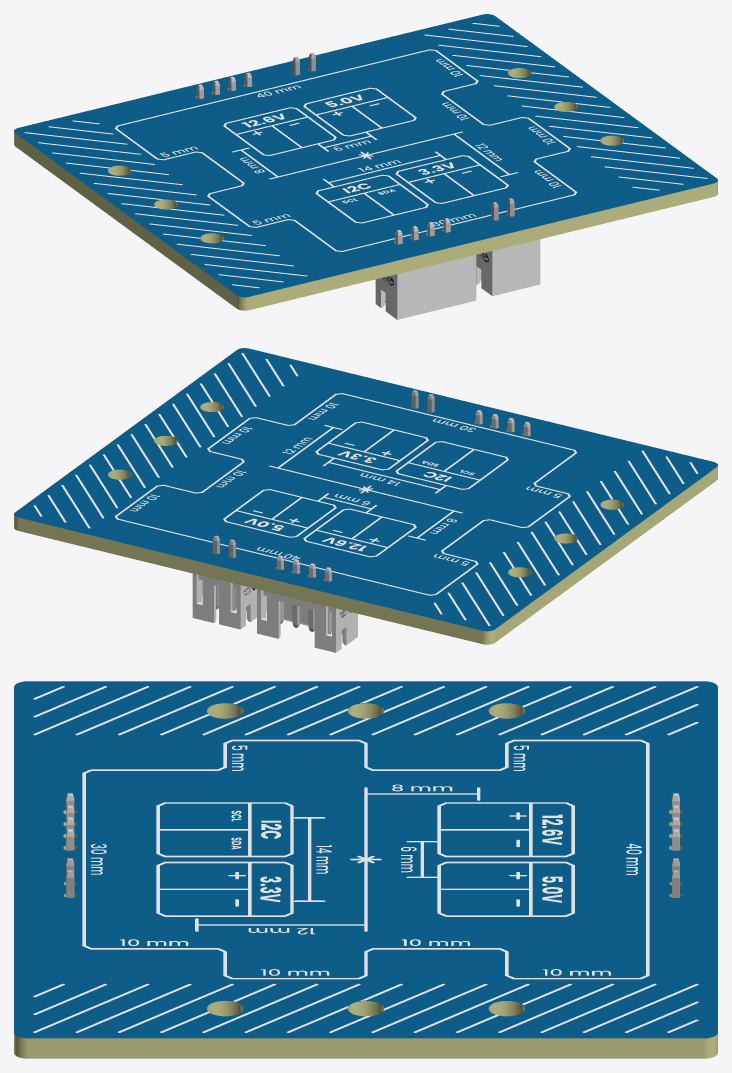
File: PlugBoard.glb
3 renders of one model, top to bottom at view 1: azimuth 30°, elevation 25°; view 2: azimuth 150°, elevation 25°; view 3: azimuth 270°, elevation 25°, orthographic. The views are drawn at different scales.
Visible parts, largest first — view 1: Board~6Stn, CONN-TH_B4B-PH-K-S~PH2.0-LI-4P~6Stn015, CONN-TH_B2B-PH-K-S~CONN-TH_PH2.00-LI-2P~6Stn015, TopSilkscreen~6Stn022, TopSilkscreen~6Stn047, TopSilkscreen~6Stn033, TopSilkscreen~6Stn032; view 2: Board~6Stn, CONN-TH_B4B-PH-K-S~PH2.0-LI-4P~6Stn, CONN-TH_B2B-PH-K-S~CONN-TH_PH2.00-LI-2P~6Stn, TopSilkscreen~6Stn022, TopSilkscreen~6Stn047, TopSilkscreen~6Stn033, TopSilkscreen~6Stn032; view 3: Board~6Stn, TopSilkscreen~6Stn022, TopSilkscreen~6Stn047, TopSilkscreen~6Stn033, TopSilkscreen~6Stn032.
Part boxes in pixels (x1,y1,x2,y2): Board~6Stn: (14, 14, 717, 310); CONN-TH_B4B-PH-K-S~PH2.0-LI-4P~6Stn015: (375, 218, 476, 319); CONN-TH_B2B-PH-K-S~CONN-TH_PH2.00-LI-2P~6Stn015: (476, 198, 540, 295); TopSilkscreen~6Stn022: (114, 49, 576, 251); TopSilkscreen~6Stn047: (315, 151, 508, 223); TopSilkscreen~6Stn033: (223, 87, 416, 155); TopSilkscreen~6Stn032: (232, 131, 518, 179); Board~6Stn: (14, 348, 717, 644); CONN-TH_B4B-PH-K-S~PH2.0-LI-4P~6Stn: (257, 555, 357, 652); CONN-TH_B2B-PH-K-S~CONN-TH_PH2.00-LI-2P~6Stn: (192, 535, 256, 629); TopSilkscreen~6Stn022: (115, 393, 576, 595); TopSilkscreen~6Stn047: (315, 421, 508, 493); TopSilkscreen~6Stn033: (223, 489, 416, 557); TopSilkscreen~6Stn032: (269, 425, 462, 540); Board~6Stn: (14, 681, 717, 1058); TopSilkscreen~6Stn022: (82, 739, 649, 979); TopSilkscreen~6Stn047: (156, 802, 325, 916); TopSilkscreen~6Stn033: (406, 802, 574, 916); TopSilkscreen~6Stn032: (195, 787, 480, 931).
Bounding box in the file's own units: 0.06 × 0.0095 × 0.05.
